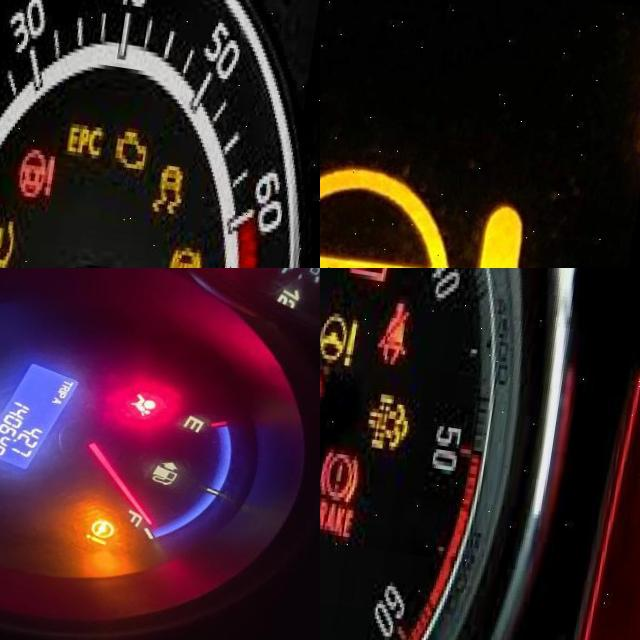Electronic Power Steering: (89, 500, 132, 539)
Electronic Power Steering Warning: (320, 142, 543, 268), (20, 143, 66, 198)
Seat Belt: (381, 288, 422, 356)
